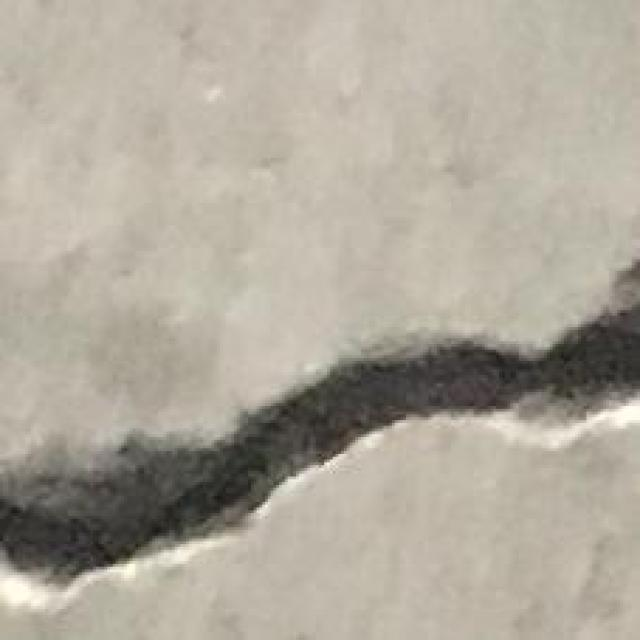diagonal crack: (0, 265, 640, 595)
